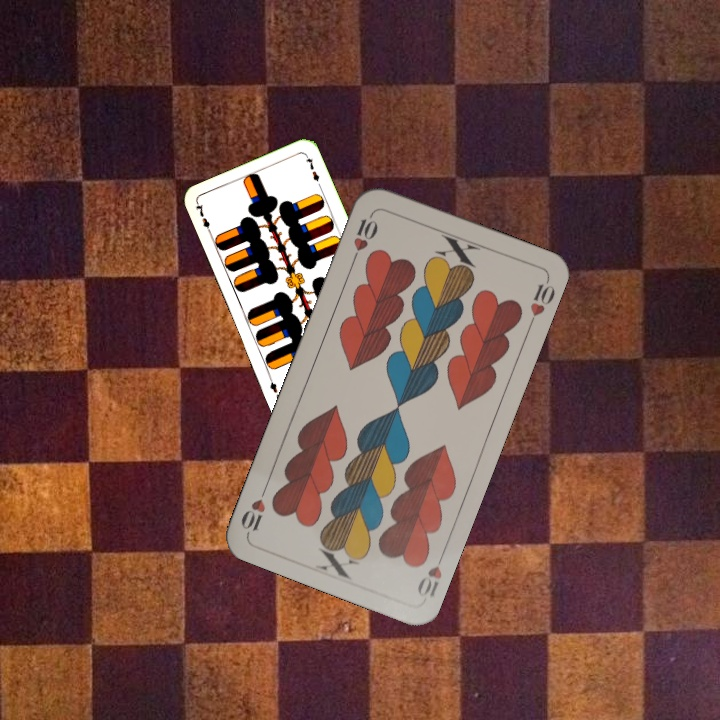E7: (192, 200, 215, 238)
H10: (348, 208, 381, 265), (413, 547, 448, 600)
